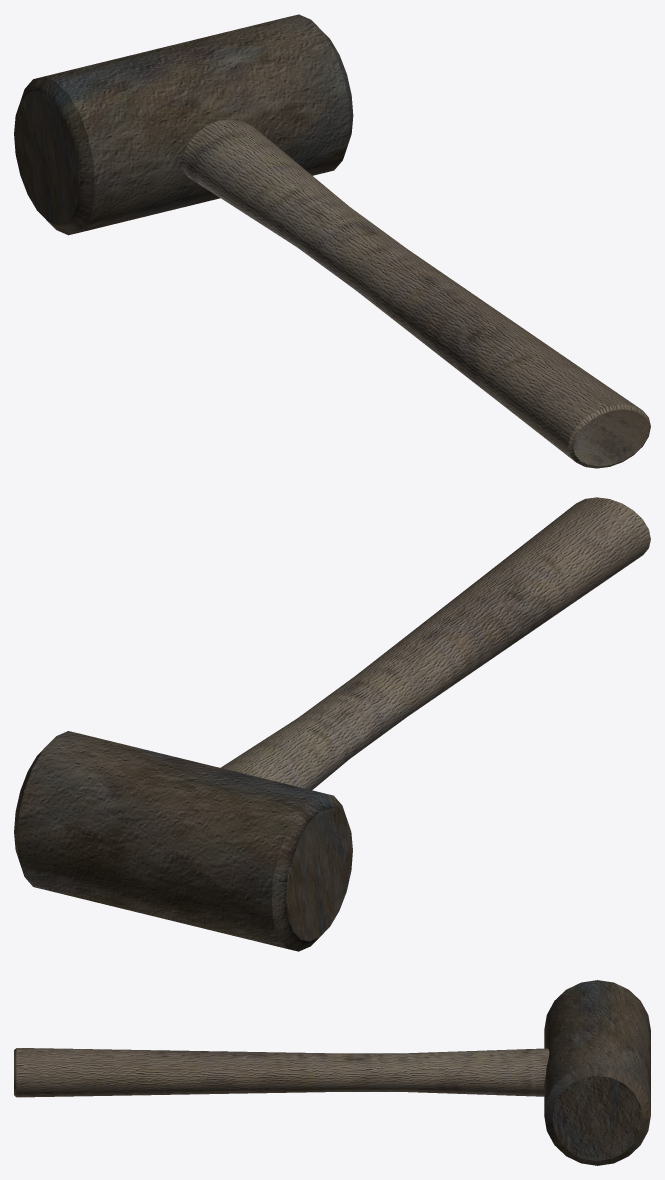
Rendered from Horror_Mallet.fbx.
3 renders of one model, top to bottom at view 1: azimuth 30°, elevation 25°; view 2: azimuth 150°, elevation 25°; view 3: azimuth 270°, elevation 25°, orthographic. The views are drawn at different scales.
Visible parts, largest first — view 1: polySurface1; view 2: polySurface1; view 3: polySurface1.
Boxes of the visible parts, left/top/right/bottom form: polySurface1: left=14, top=14, right=650, bottom=468; polySurface1: left=14, top=497, right=650, bottom=951; polySurface1: left=14, top=980, right=650, bottom=1165.
Bounding box in the file's own units: 101 × 52.12 × 298.
Materials: 2 (2 with a texture image).
